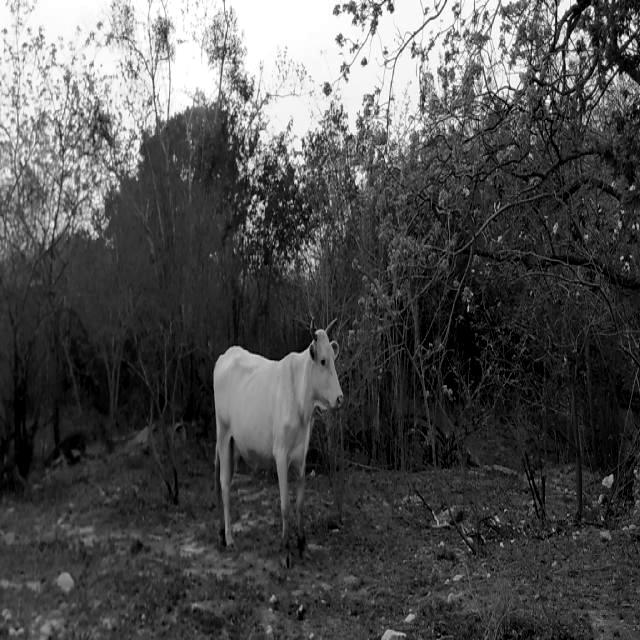COW: (214, 329, 342, 566)
